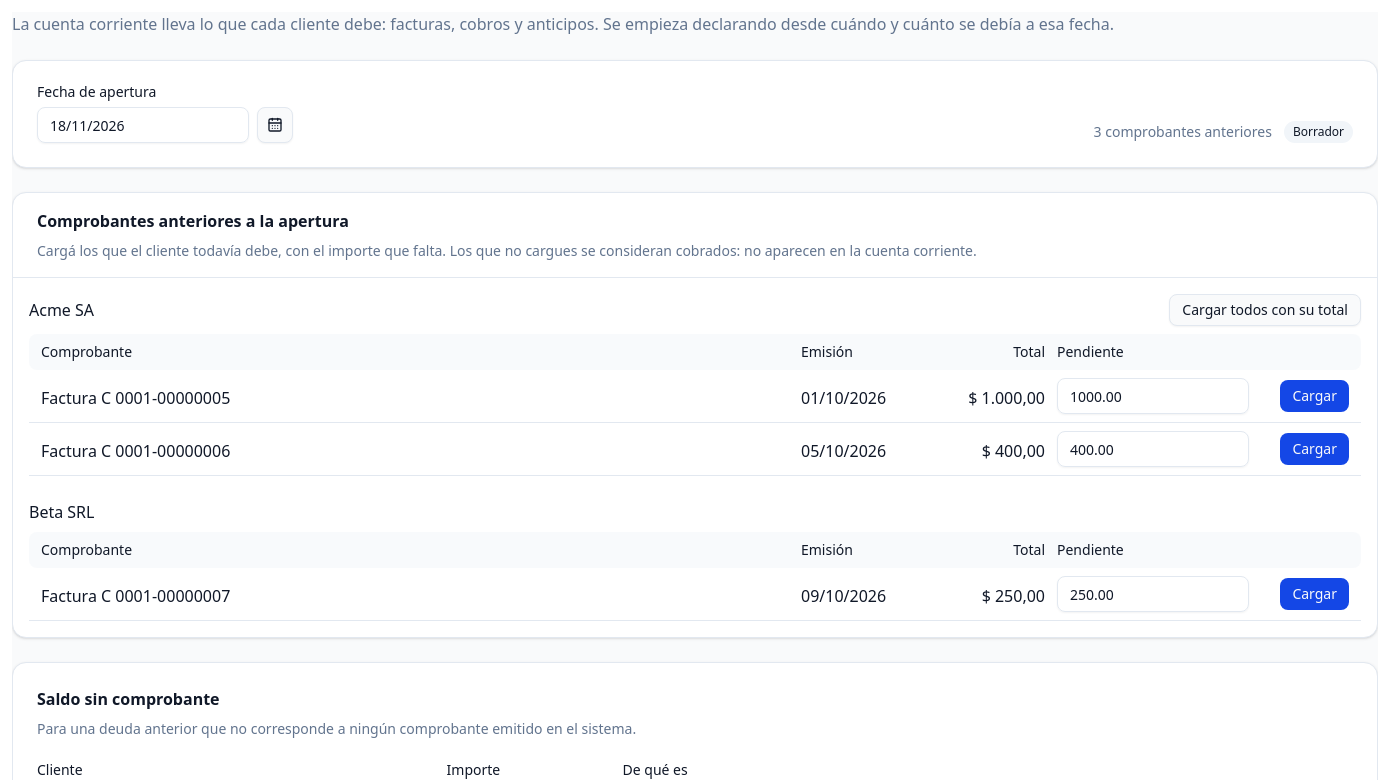
Test case: Apertura de la cuenta corriente › borrador › no deja cargar un importe vacío, en cero o mayor al total del comprobante
Expected: the heading "Beta SRL" is shown, [29, 500, 94, 524]
Step 1. Clear the field named "Pendiente de Factura C 0001-00000005" → point(1153, 396), box [1057, 378, 1249, 414]
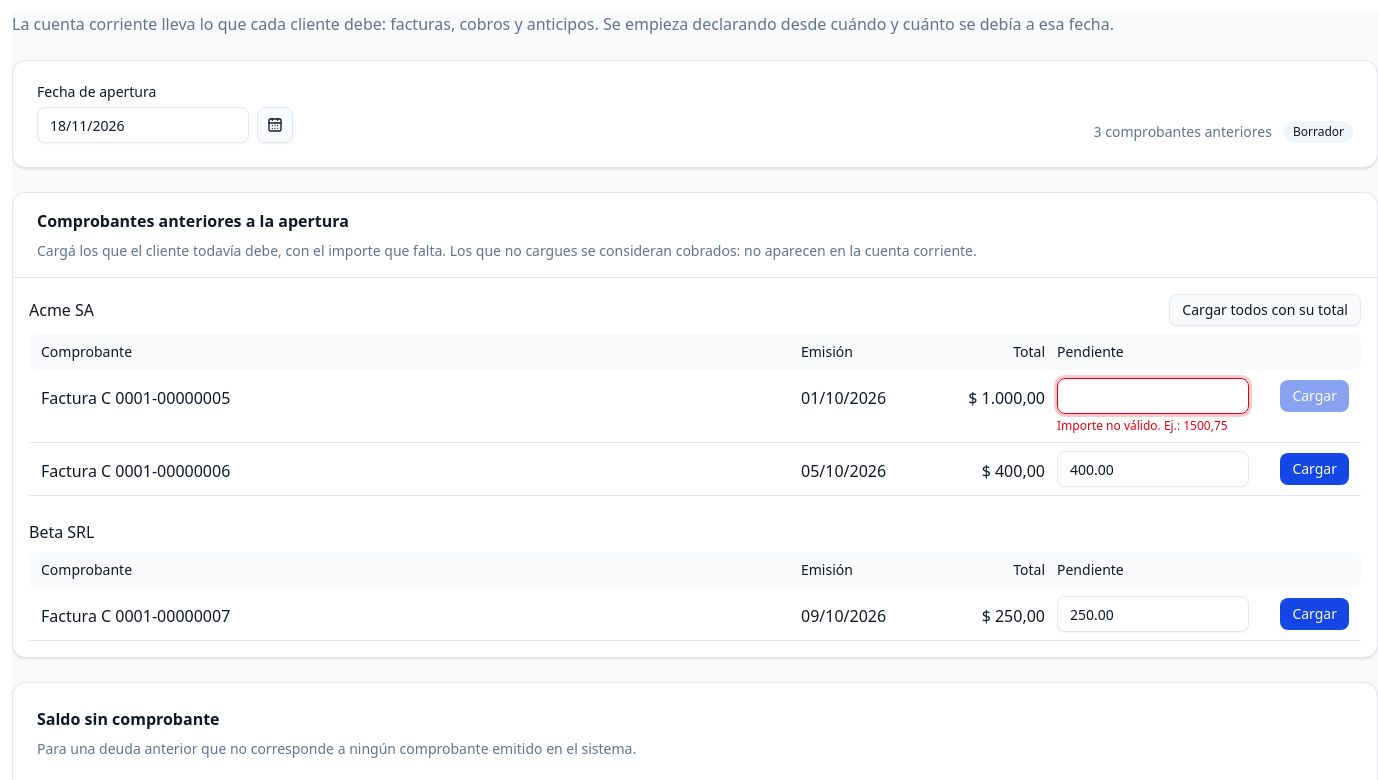
Expected: the button with aria-label "Cargar Factura C 0001-00000005" is disabled, [1280, 380, 1349, 412]
Step 2. Type "0" into the field named "Pendiente de Factura C 0001-00000005" → point(1153, 396), box [1057, 378, 1249, 414]
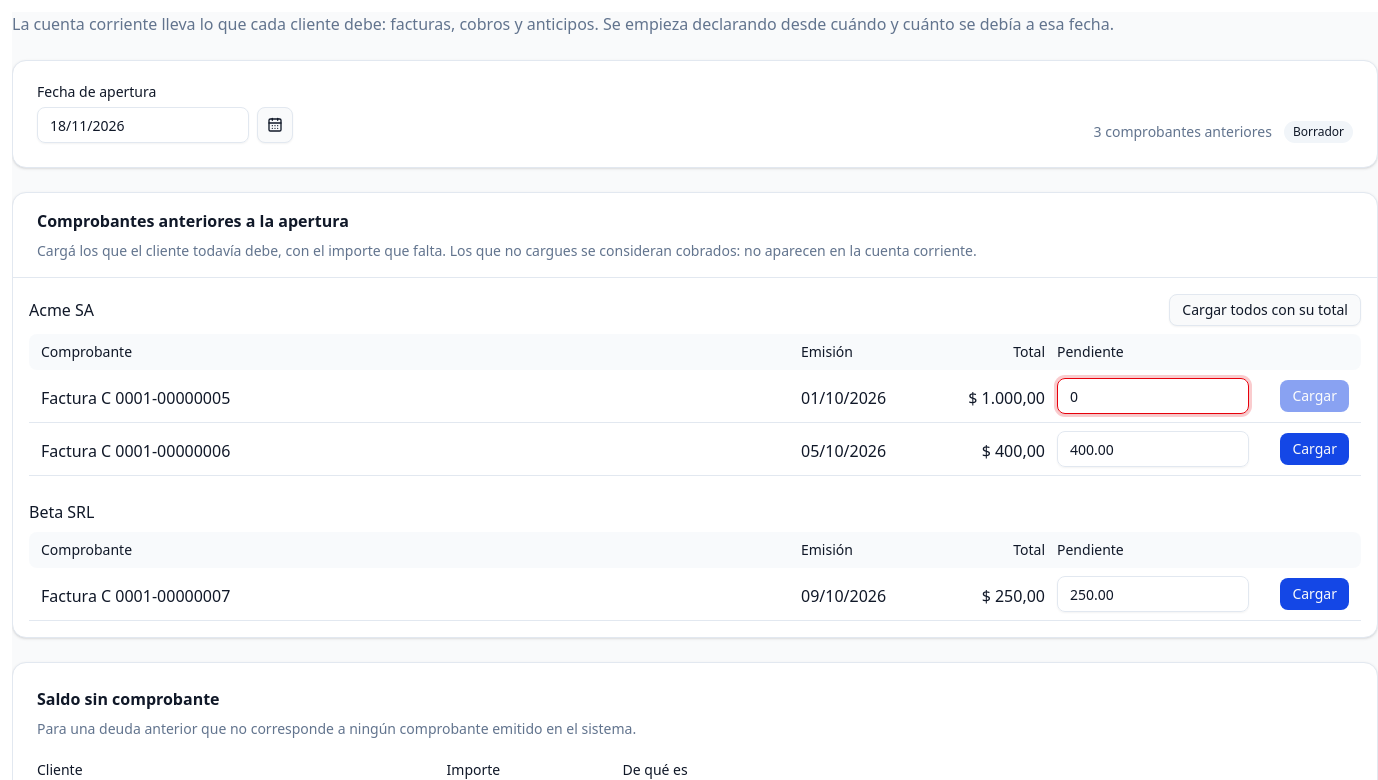
Expected: the button with aria-label "Cargar Factura C 0001-00000005" is disabled, [1280, 380, 1349, 412]
Step 3. Replace the text in the field named "Pendiente de Factura C 0001-00000005" with "1000.01" → point(1153, 396), box [1057, 378, 1249, 414]
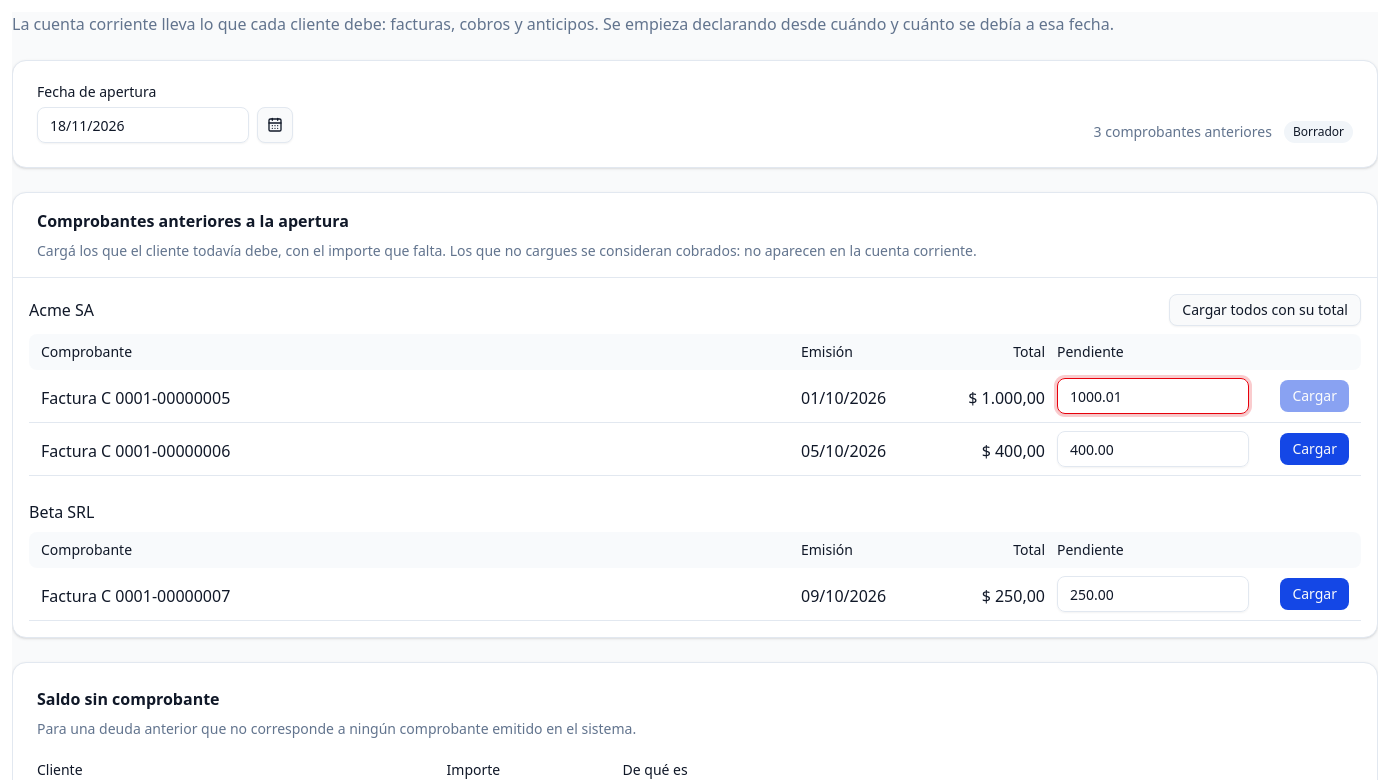
Expected: the button with aria-label "Cargar Factura C 0001-00000005" is disabled, [1280, 380, 1349, 412]
Step 4. Replace the text in the field named "Pendiente de Factura C 0001-00000005" with "1000" → point(1153, 396), box [1057, 378, 1249, 414]
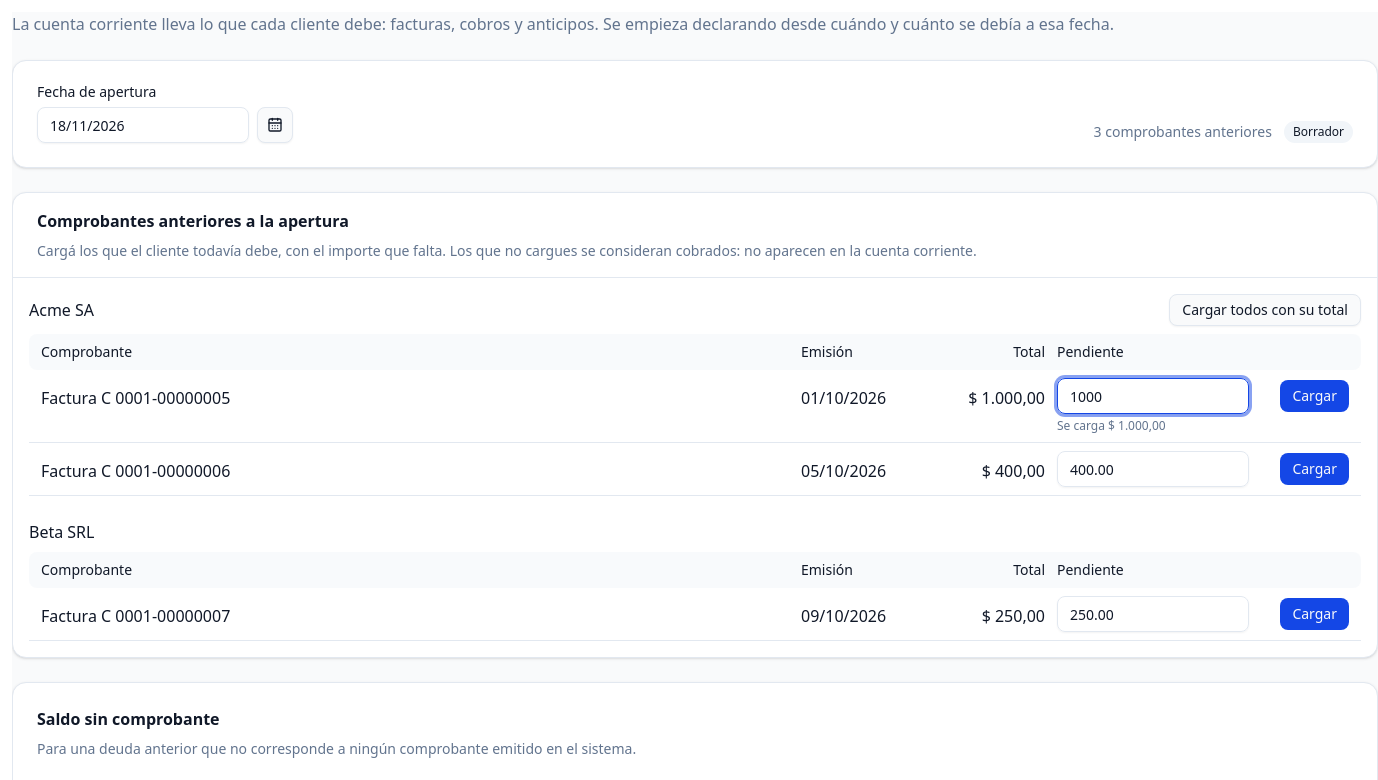
Expected: the button with aria-label "Cargar Factura C 0001-00000005" is enabled, [1280, 380, 1349, 412]
